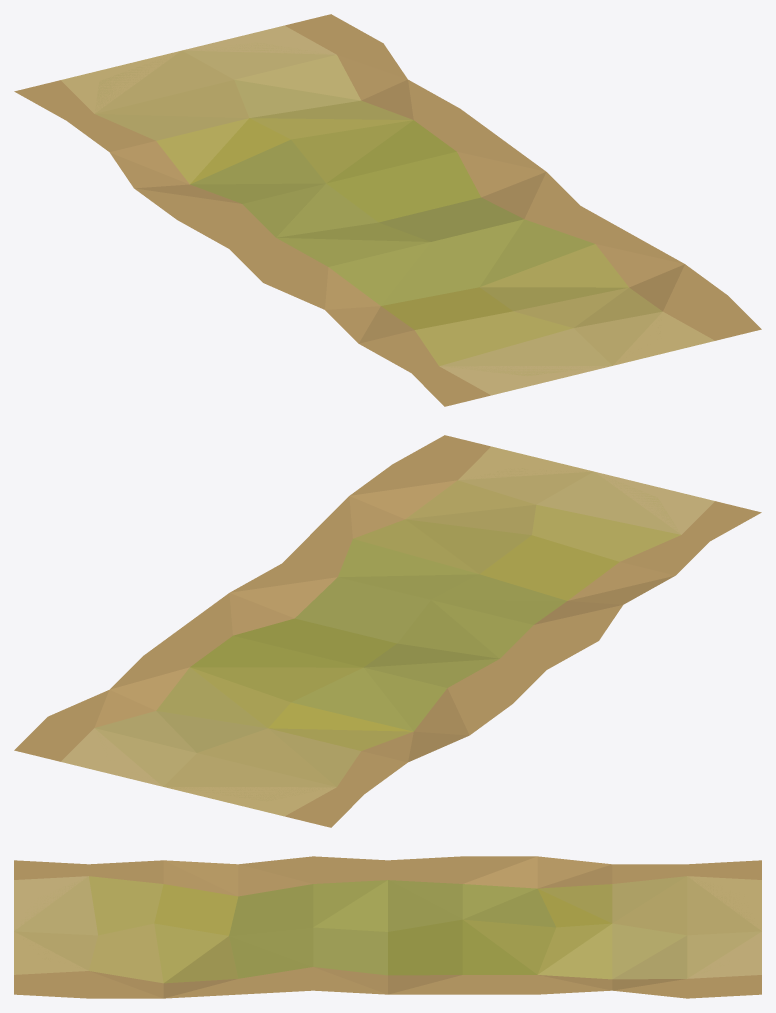
File: grod.obj
3 views of the same model, one above another, from view 1: azimuth 30°, elevation 25°; view 2: azimuth 150°, elevation 25°; view 3: azimuth 270°, elevation 25° (orthographic). The views are drawn at different scales.
Size of the model in its own units: 2520 by 70 by 5600.
